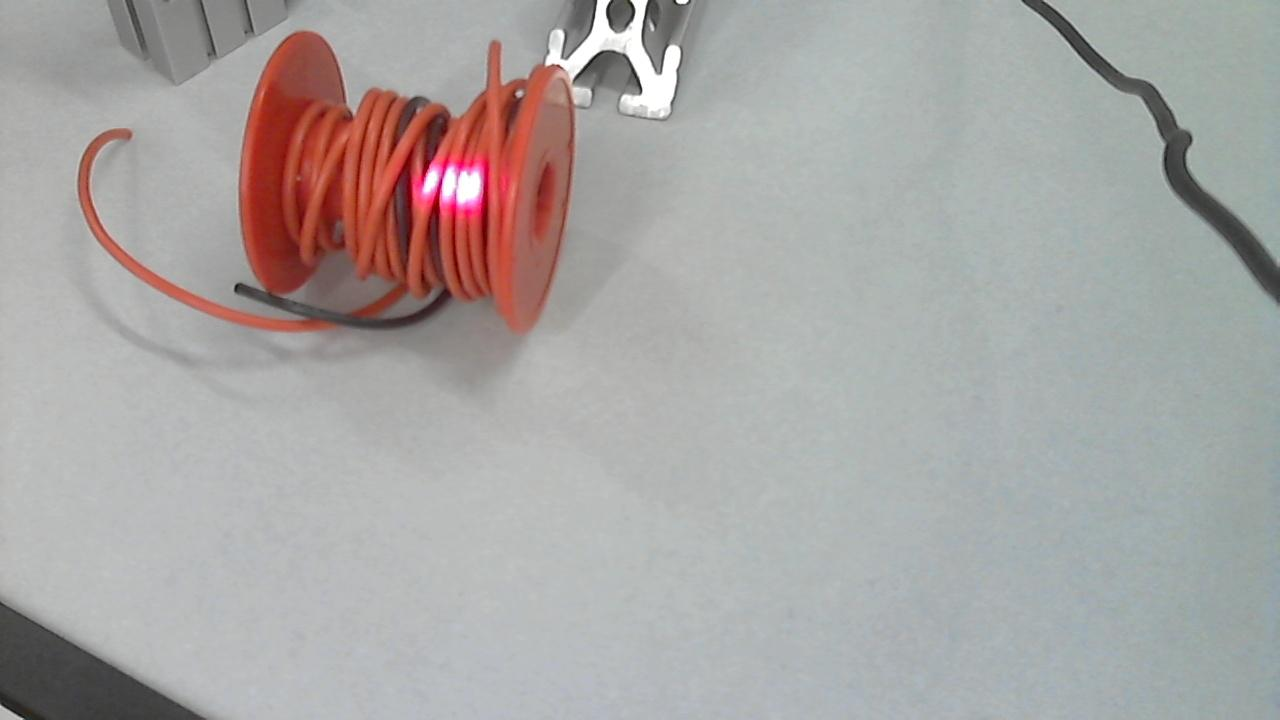Object wire spool - Material rubber - Color oranges - Pdfname ZryFz3DBSiO8: (404, 142, 496, 223)
